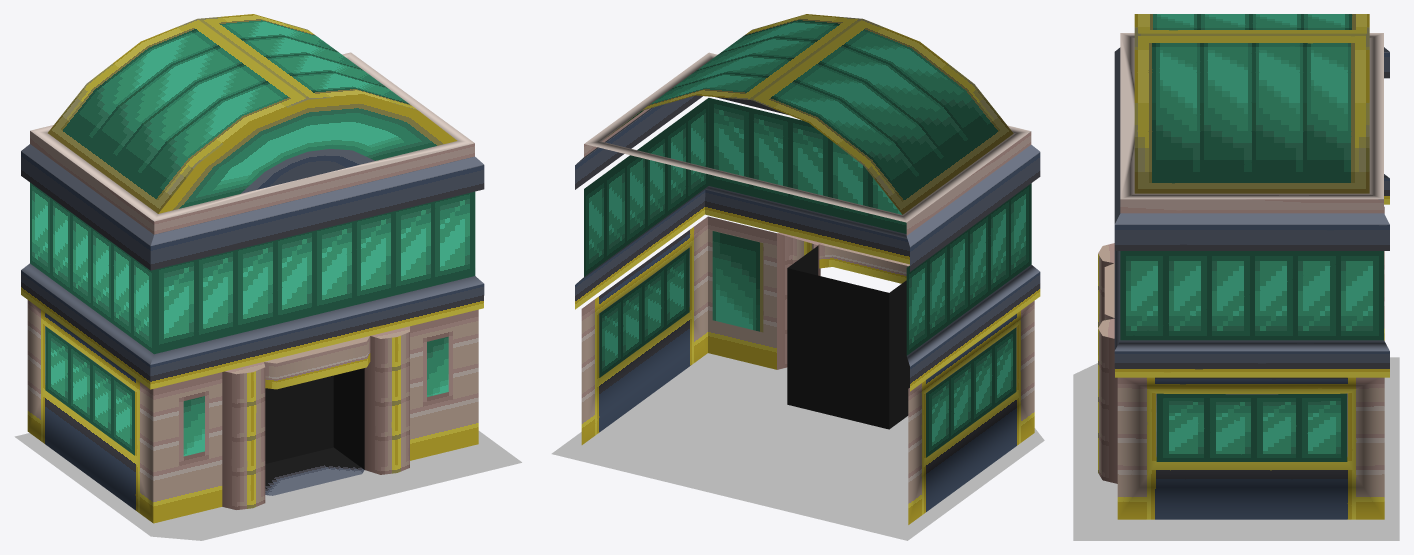
The model's file is c5_rbuild_01.dae.
3 views of the same model, side by side, from view 1: azimuth 30°, elevation 25°; view 2: azimuth 150°, elevation 25°; view 3: azimuth 270°, elevation 25° (orthographic). The views are drawn at different scales.
Parts seen in each view (by area): view 1: c5_rbuild_01; view 2: c5_rbuild_01; view 3: c5_rbuild_01.
Part boxes in pixels (<box>): c5_rbuild_01: <box>14,14,521,540</box>; c5_rbuild_01: <box>551,14,1044,540</box>; c5_rbuild_01: <box>1073,14,1399,540</box>.
Bounding box in the file's own units: 84 × 87.58 × 63.07.
